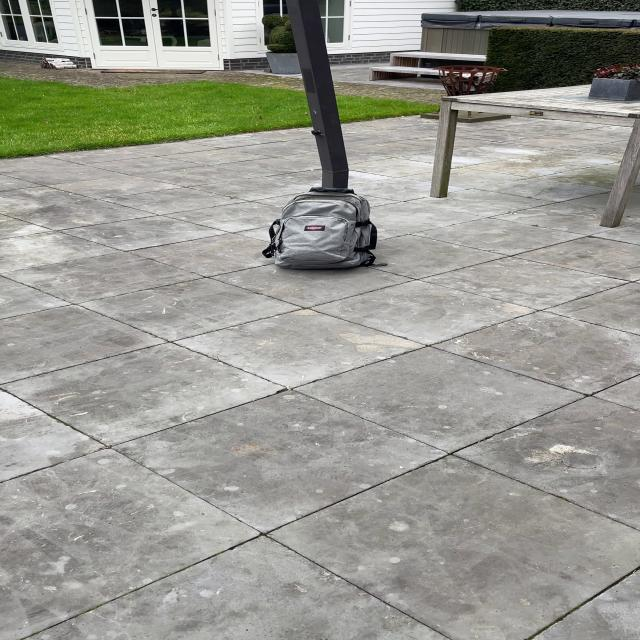backpack: (261, 183, 381, 274)
